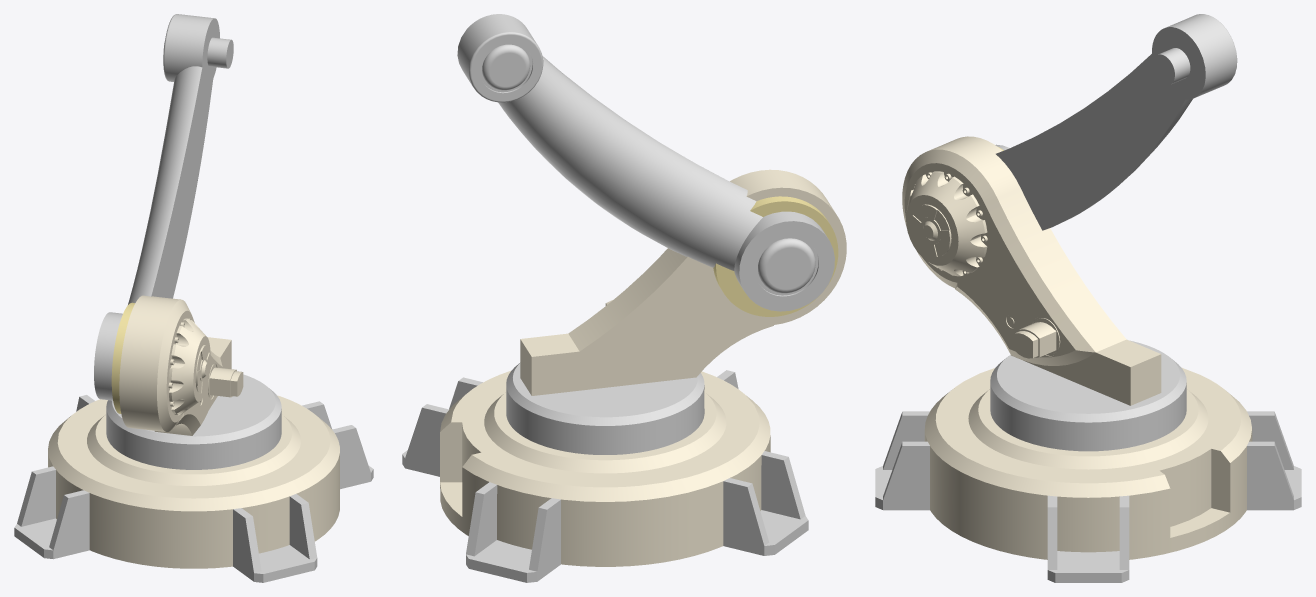
Rendered from robotic arm-v3.gltf.
3 renders of one model, left to right at view 1: azimuth 30°, elevation 25°; view 2: azimuth 150°, elevation 25°; view 3: azimuth 270°, elevation 25°, orthographic. The views are drawn at different scales.
Visible parts, largest first — view 1: Body1 (×7), [Interactable] 001, [Interactable] 002; view 2: Body1 (×7), [Interactable] 001, [Interactable] 002; view 3: Body1 (×7), [Interactable] 001.
Boxes of the visible parts, x1,y1,x2,y2 form: Body1 (×7): [14, 14, 373, 582]; [Interactable] 001: [106, 374, 281, 469]; [Interactable] 002: [111, 302, 134, 413]; Body1 (×7): [402, 14, 846, 582]; [Interactable] 001: [506, 363, 704, 454]; [Interactable] 002: [713, 196, 838, 316]; Body1 (×7): [875, 14, 1301, 582]; [Interactable] 001: [990, 340, 1186, 451].
Bounding box in the file's own units: 1.17 × 1.5 × 1.17.
